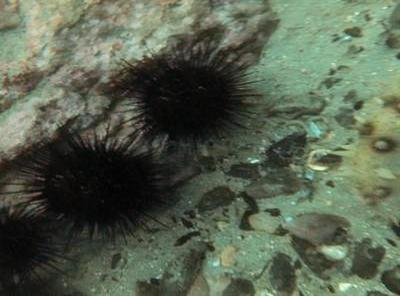urchin: (32, 138, 170, 231), (132, 51, 253, 145), (0, 202, 60, 281)
